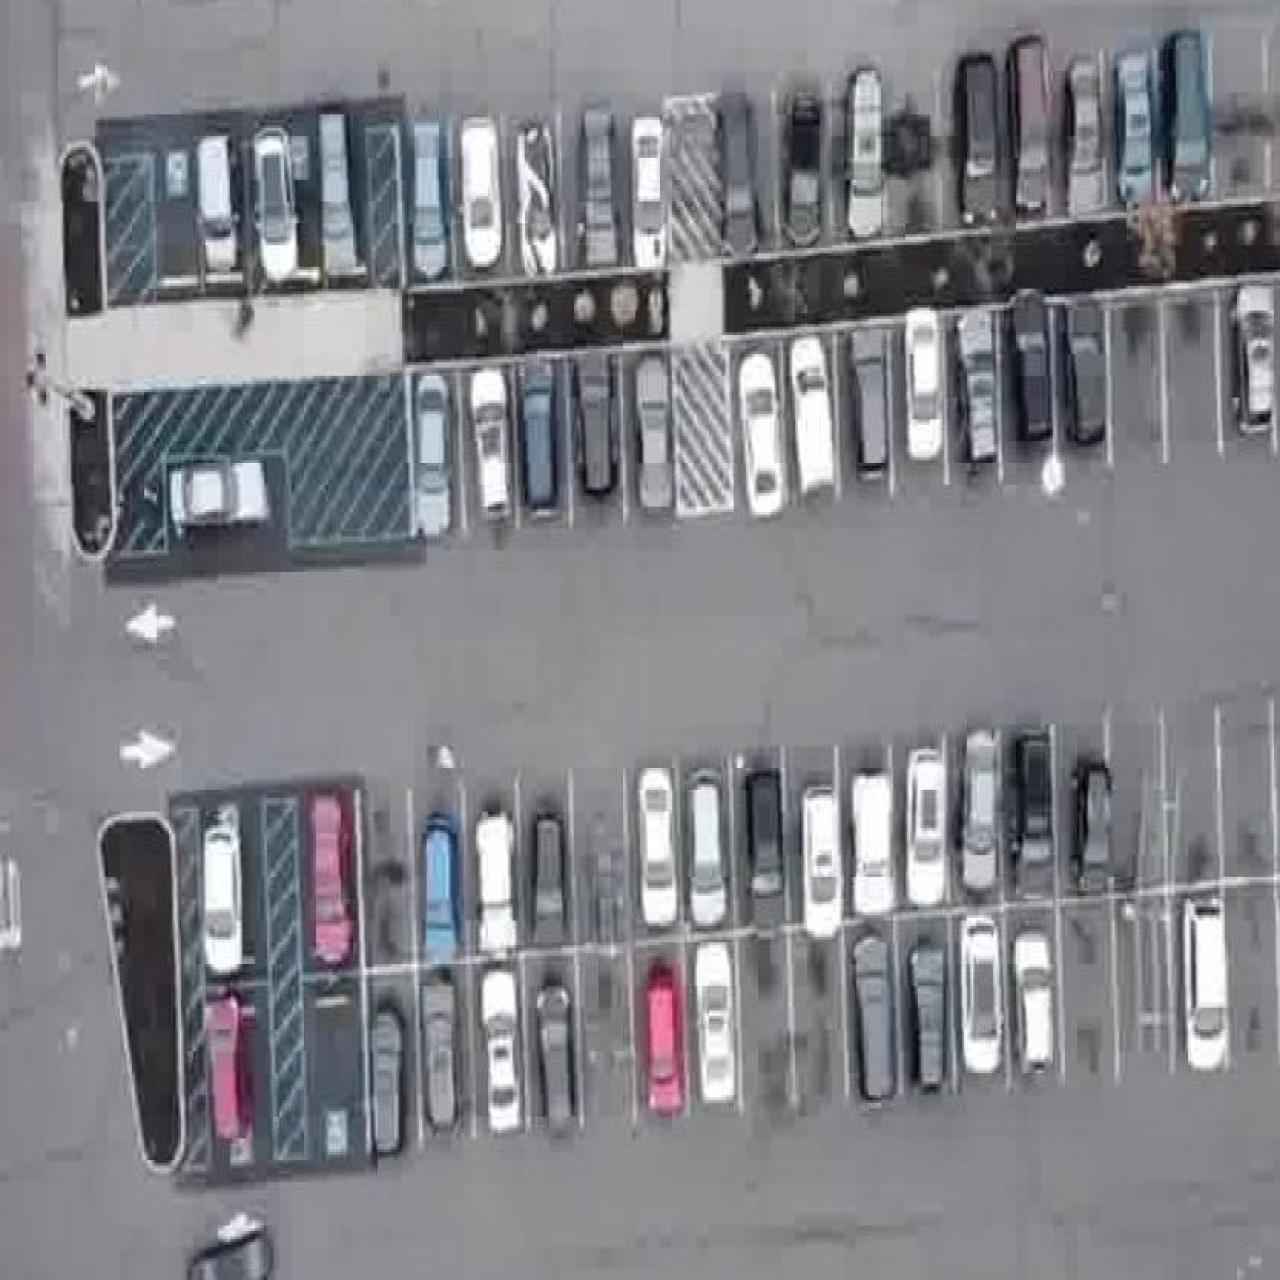car: (305, 986, 361, 1160), (166, 455, 270, 542), (1160, 27, 1212, 199), (306, 790, 354, 967), (1007, 33, 1053, 218), (318, 109, 366, 284), (1182, 893, 1228, 1070), (954, 49, 1001, 226), (69, 389, 118, 556), (60, 139, 105, 316), (849, 744, 896, 915), (204, 986, 254, 1144), (1063, 49, 1110, 215), (252, 125, 299, 284), (881, 90, 932, 237), (576, 101, 619, 270), (789, 332, 833, 496), (715, 93, 760, 257), (1012, 730, 1055, 896), (852, 934, 896, 1099), (958, 915, 1002, 1073), (904, 744, 947, 904), (738, 349, 781, 512), (411, 370, 452, 537), (481, 967, 522, 1133), (636, 763, 678, 928), (799, 782, 843, 937), (954, 308, 998, 463), (694, 940, 735, 1103), (515, 117, 557, 275), (959, 727, 999, 893), (844, 66, 883, 237), (685, 765, 726, 926), (459, 115, 502, 270), (1012, 926, 1055, 1076), (203, 812, 243, 975), (644, 956, 685, 1114), (1114, 47, 1155, 204), (193, 131, 239, 272), (470, 365, 511, 520), (782, 90, 823, 245), (367, 803, 407, 961), (1234, 284, 1275, 436), (475, 803, 516, 955), (847, 325, 888, 477), (574, 348, 617, 496), (904, 305, 944, 459), (1012, 286, 1051, 441), (1069, 751, 1112, 893), (155, 144, 198, 286), (634, 352, 673, 510), (363, 123, 401, 286), (185, 1208, 273, 1276), (411, 117, 448, 281), (907, 937, 945, 1092), (1064, 302, 1105, 444), (368, 1000, 406, 1155), (536, 978, 572, 1133), (629, 114, 666, 267), (421, 978, 457, 1130), (421, 812, 457, 965), (520, 360, 556, 510), (744, 768, 783, 899), (531, 803, 563, 942)
